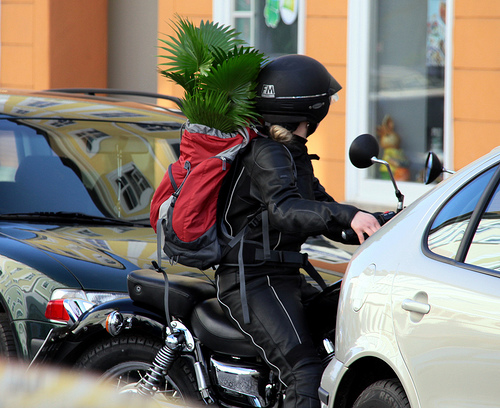helmet: (242, 54, 350, 122)
